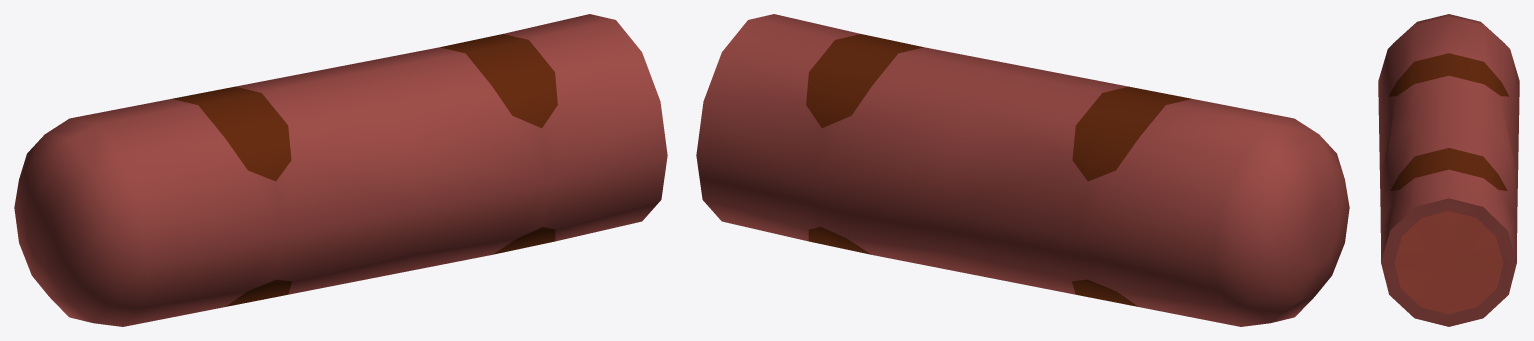
File: Sausage_gril_half.004.fbx
The picture shows the model from 3 angles, left to right: view 1: azimuth 30°, elevation 25°; view 2: azimuth 150°, elevation 25°; view 3: azimuth 270°, elevation 25°; orthographic projection. The views are drawn at different scales.
Parts seen in each view (by area): view 1: Sausage_gril_half.004; view 2: Sausage_gril_half.004; view 3: Sausage_gril_half.004.
Part boxes in pixels (left/top/right/bottom): Sausage_gril_half.004: left=14, top=14, right=667, bottom=326; Sausage_gril_half.004: left=696, top=14, right=1349, bottom=326; Sausage_gril_half.004: left=1378, top=14, right=1519, bottom=326.
Size of the model in its own units: 79.77 by 25.88 by 28.84.
